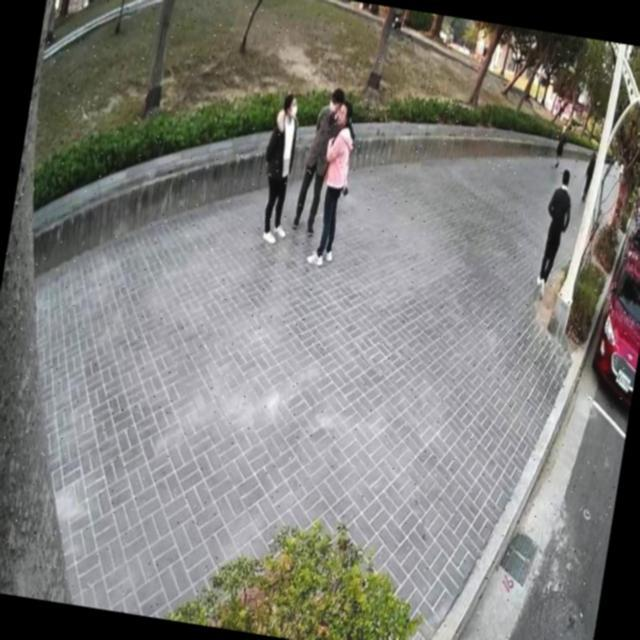person: (301, 94, 364, 272), (250, 85, 310, 248), (289, 76, 348, 240), (528, 160, 582, 304), (578, 147, 600, 206), (550, 116, 572, 170)
